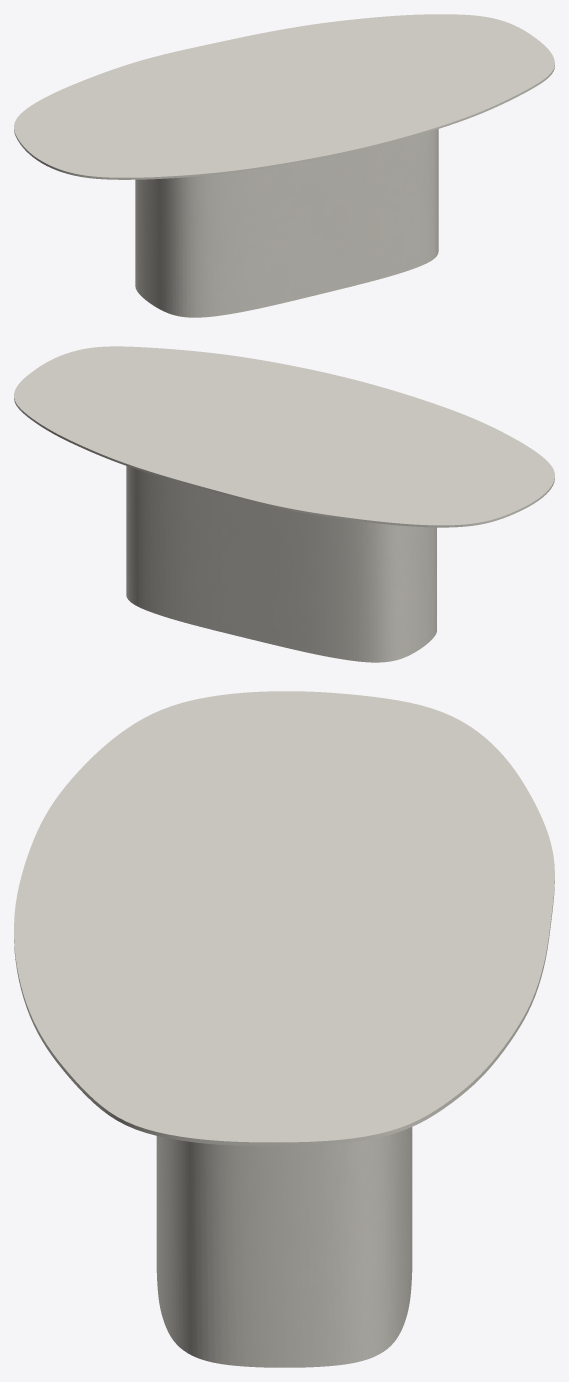
File: pale_danish_facet_fixed.glb
The picture shows the model from 3 angles, top to bottom: view 1: azimuth 30°, elevation 25°; view 2: azimuth 150°, elevation 25°; view 3: azimuth 270°, elevation 25°; orthographic projection. The views are drawn at different scales.
Visible parts, largest first — view 1: facet_danish, fixed; view 2: facet_danish, fixed; view 3: facet_danish, fixed.
Boxes of the visible parts, x1=… form: facet_danish: x1=14, y1=14, x2=554, y2=179; fixed: x1=135, y1=129, x2=438, y2=317; facet_danish: x1=14, y1=346, x2=554, y2=527; fixed: x1=126, y1=466, x2=436, y2=662; facet_danish: x1=14, y1=691, x2=554, y2=1146; fixed: x1=156, y1=1127, x2=412, y2=1367.
Size of the model in its own units: 7.5 by 2.5 by 3.8.
1 material, 1 textured.
